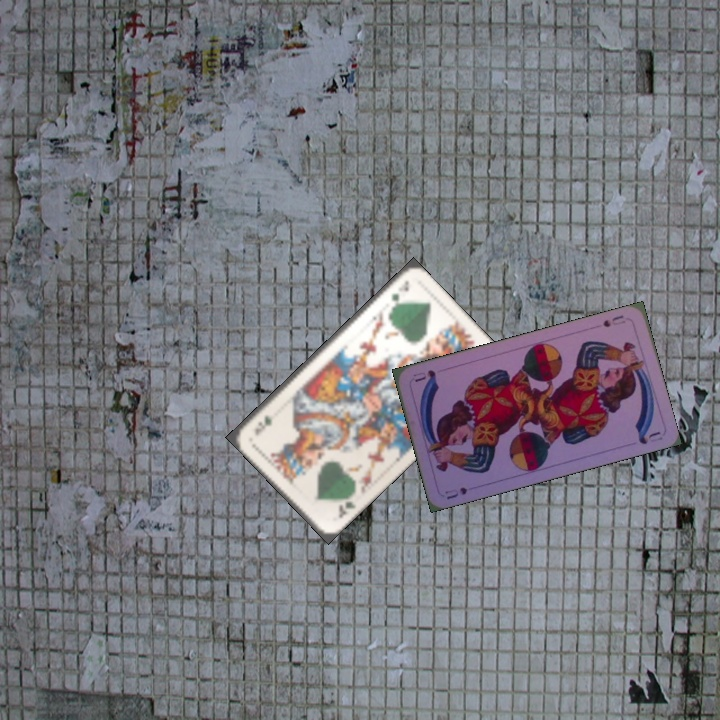GK: (387, 276, 412, 304), (334, 497, 359, 521)
SU: (441, 483, 470, 502), (599, 311, 628, 330)
